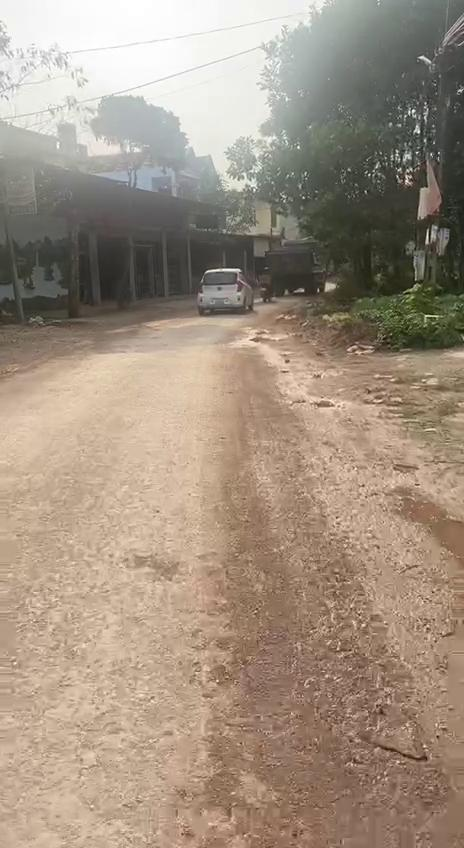pothole: (388, 482, 464, 576)
